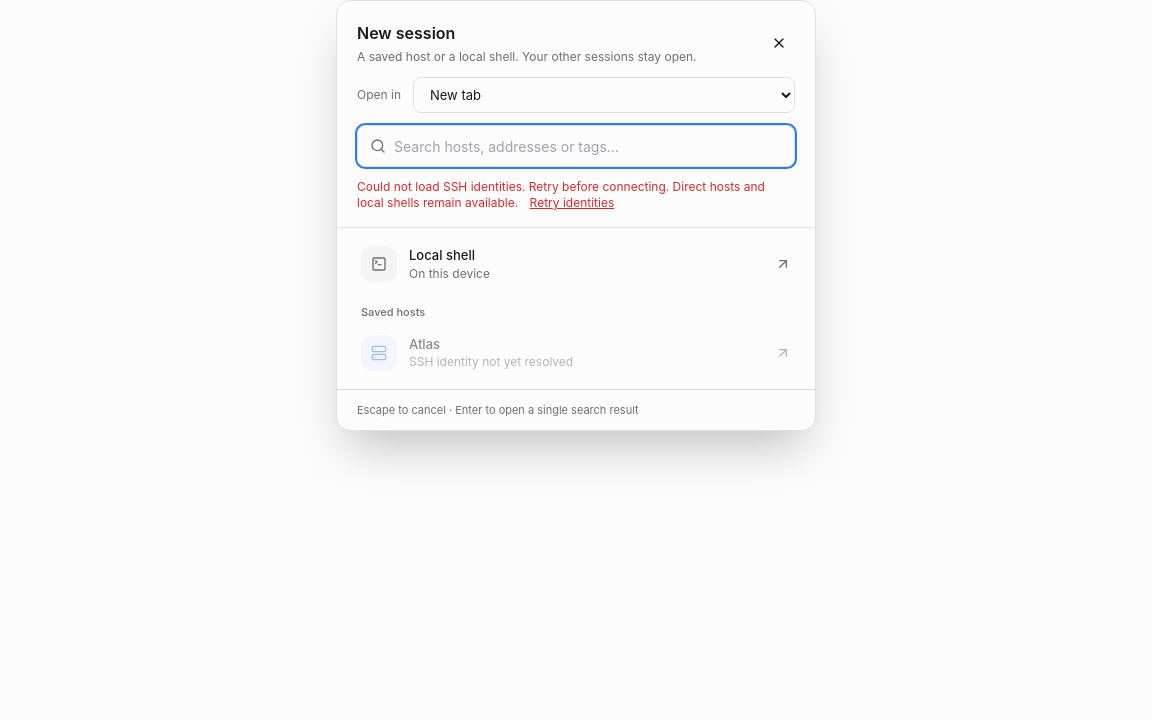
Scenario: picker identity presentation › offers retry rather than advertising fallback accounts after a failed load
The width and height of the screenshot is (1152, 720).
Expected: the button with aria-label "Connect Atlas" is disabled, left=349, top=324, right=803, bottom=380
Step 1. Click the button "Retry identities" → (572, 203), box left=530, top=195, right=614, bottom=211
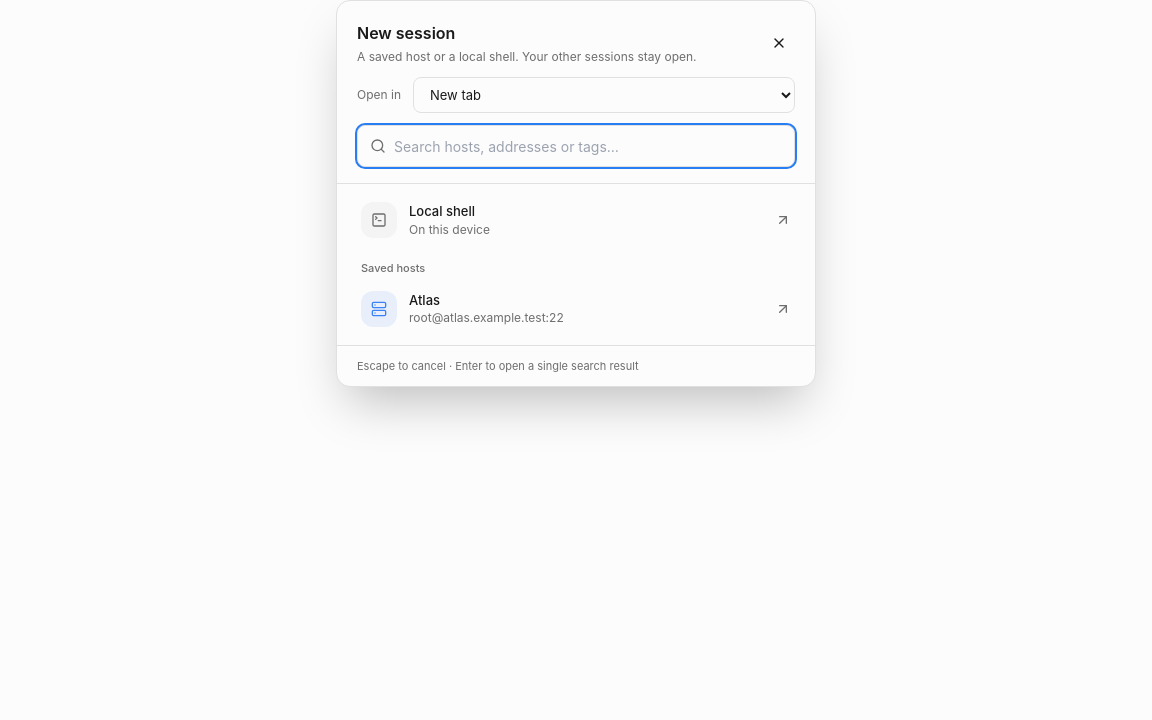
Now the text "root@atlas.example.test:22" is shown, box left=409, top=310, right=564, bottom=325
Now the button with aria-label "Connect Atlas" is enabled, box left=349, top=280, right=803, bottom=336
